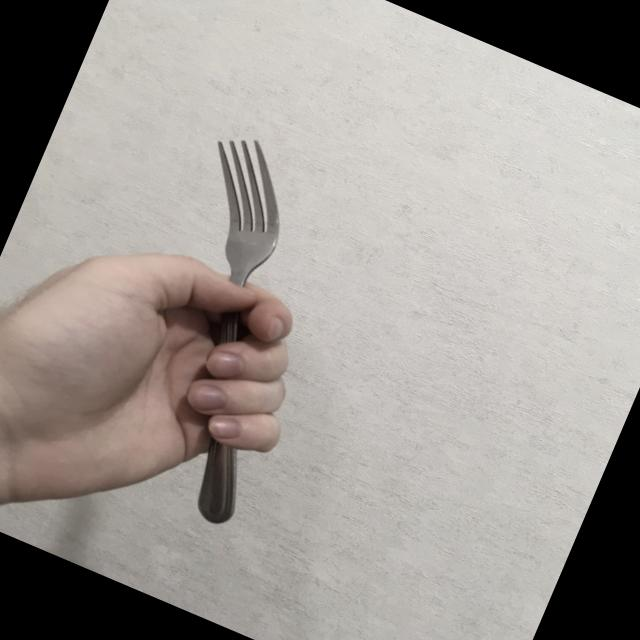fork: (76, 123, 368, 529)
